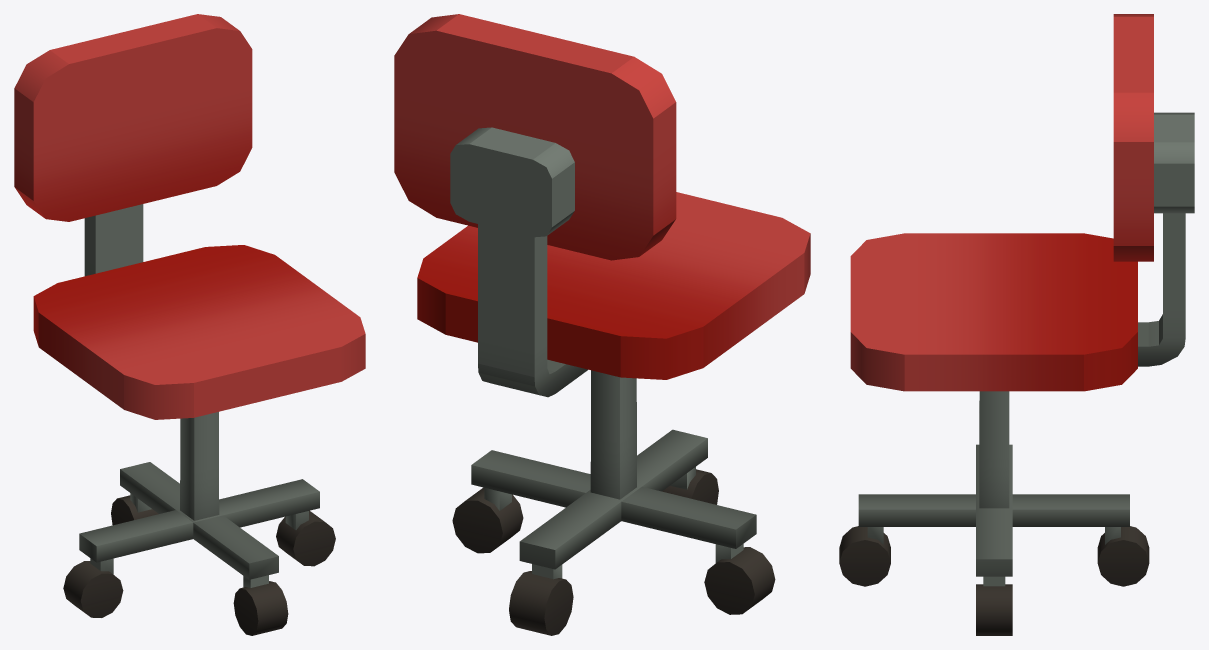
The model's file is SM_Chair.fbx.
3 renders of one model, left to right at view 1: azimuth 30°, elevation 25°; view 2: azimuth 150°, elevation 25°; view 3: azimuth 270°, elevation 25°, orthographic. The views are drawn at different scales.
Visible parts, largest first — view 1: asiento.001, asiento.003, asiento.009, asiento.007, ruedas, asiento.006, asiento.005, ruedas.001, asiento.010; view 2: asiento.003, asiento.001, asiento.005, asiento.004, asiento.009, asiento.007, ruedas, asiento.006, ruedas.001, asiento.010, asiento.008; view 3: asiento.001, asiento.003, asiento.007, ruedas.001, asiento.005, asiento.004, asiento.006, asiento.009, ruedas.
Boxes of the visible parts, x1=… form: asiento.001: x1=33, y1=245, x2=365, y2=419; asiento.003: x1=14, y1=14, x2=252, y2=221; asiento.009: x1=79, y1=479, x2=319, y2=562; asiento.007: x1=120, y1=462, x2=278, y2=579; ruedas: x1=63, y1=510, x2=335, y2=617; asiento.006: x1=180, y1=412, x2=219, y2=520; asiento.005: x1=84, y1=204, x2=143, y2=276; ruedas.001: x1=111, y1=495, x2=288, y2=635; asiento.010: x1=90, y1=511, x2=308, y2=574; asiento.003: x1=394, y1=14, x2=676, y2=260; asiento.001: x1=417, y1=192, x2=810, y2=379; asiento.005: x1=478, y1=224, x2=587, y2=397; asiento.004: x1=450, y1=127, x2=574, y2=237; asiento.009: x1=471, y1=450, x2=756, y2=548; asiento.007: x1=519, y1=429, x2=707, y2=569; ruedas: x1=452, y1=487, x2=775, y2=614; asiento.006: x1=590, y1=370, x2=636, y2=499; ruedas.001: x1=509, y1=469, x2=718, y2=635; asiento.010: x1=484, y1=487, x2=743, y2=562; asiento.008: x1=532, y1=467, x2=695, y2=579; asiento.001: x1=850, y1=233, x2=1137, y2=391; asiento.003: x1=1113, y1=14, x2=1153, y2=261; asiento.007: x1=858, y1=494, x2=1129, y2=526; ruedas.001: x1=839, y1=526, x2=1149, y2=586; asiento.005: x1=1138, y1=213, x2=1185, y2=366; asiento.004: x1=1154, y1=112, x2=1194, y2=213; asiento.006: x1=979, y1=391, x2=1009, y2=508; asiento.009: x1=976, y1=444, x2=1012, y2=576; ruedas: x1=976, y1=584, x2=1012, y2=635.
Size of the model in its own units: 46.05 by 85.89 by 52.77.
